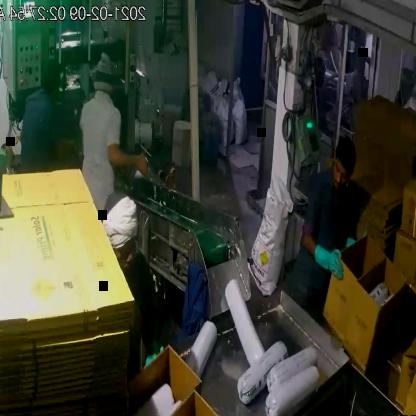glove: (304, 240, 347, 286)
no_glove: (104, 132, 152, 182)
